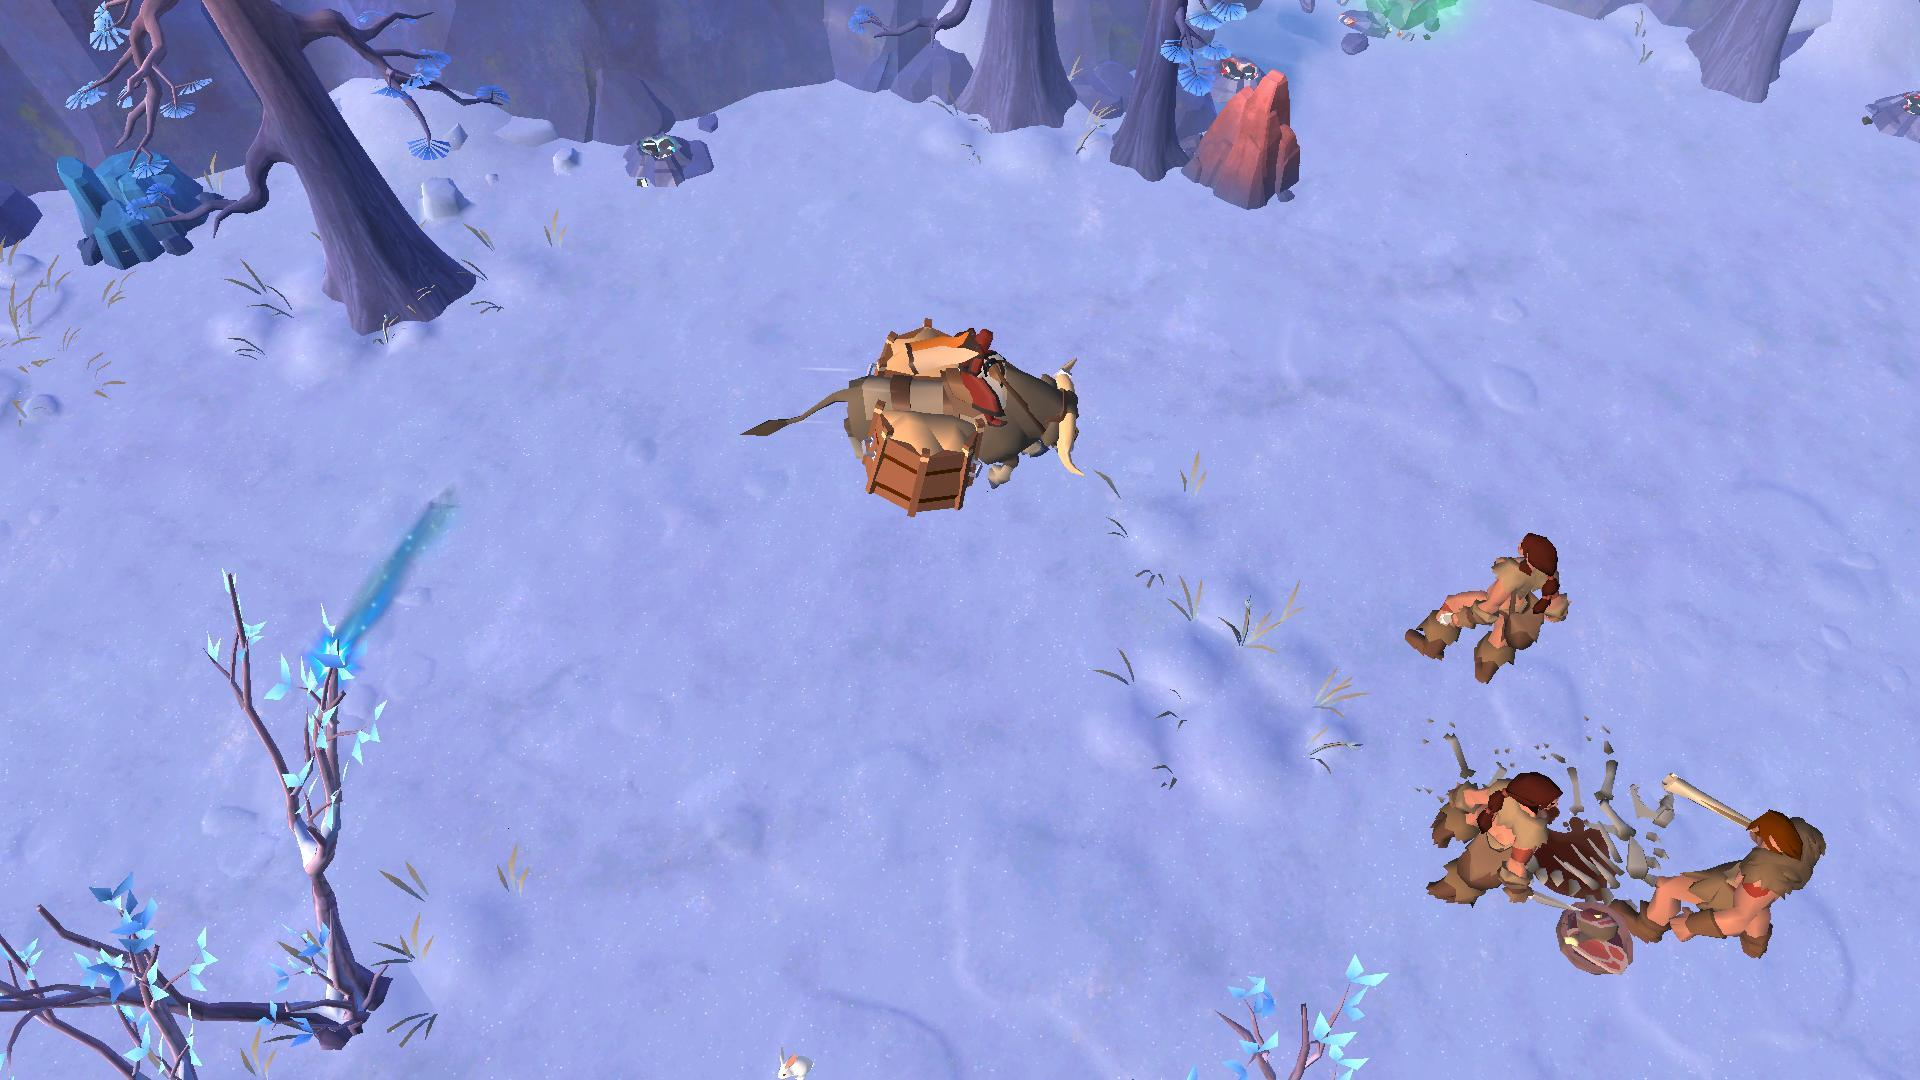enemy_factionKeeper: (1629, 770, 1829, 965), (1408, 522, 1571, 683), (1420, 767, 1560, 907)
rock_t4: (44, 145, 208, 266)
rock_t5: (1176, 78, 1309, 207)
